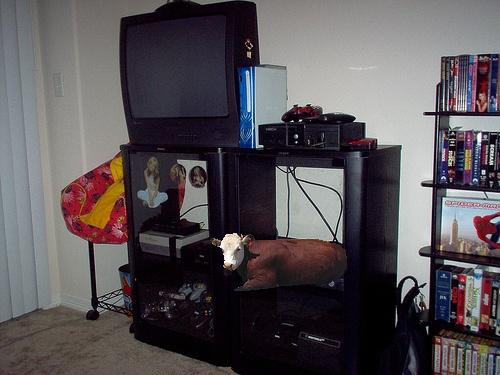tampered: (211, 234, 347, 291)
